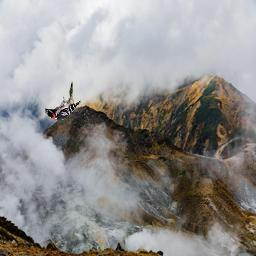Woodpecker: (45, 81, 81, 121)
